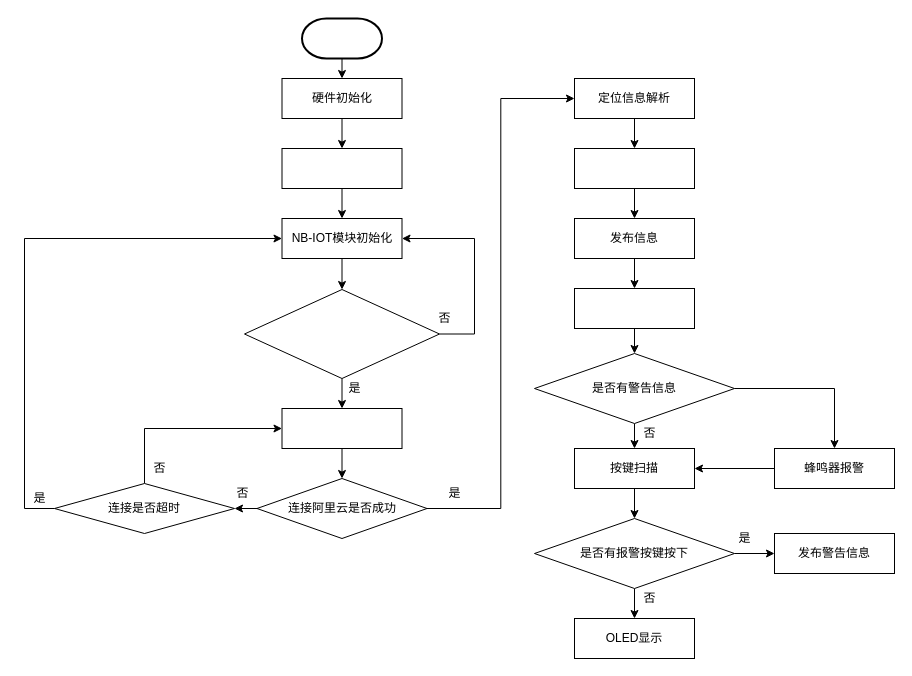
Some shapes in this 912 by 676 pixel diagram are drawn without their labels. Each missing label, with the centre of its shape:
"NB-IOT模块初始化是否完成" goes at pixel 342 333.
"定位模块初始化" goes at pixel 341 168.
"开始" goes at pixel 341 38.
"接收信息处理" goes at pixel 634 308.
"订阅主题" goes at pixel 634 168.
"连接阿里云" goes at pixel 341 428.
